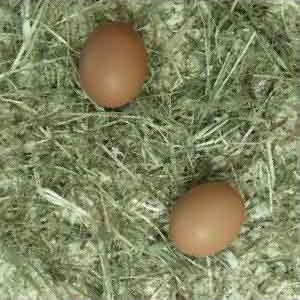egg: (78, 21, 149, 108), (167, 182, 246, 258)
